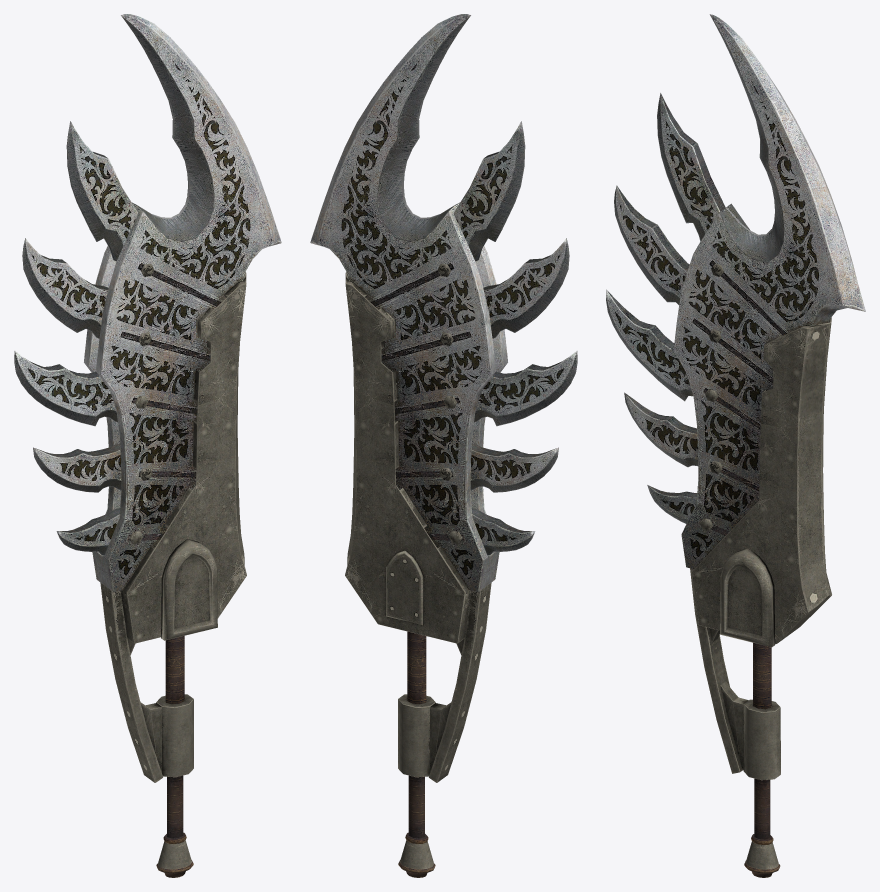
Rendered from bs_two013.obj.
3 renders of one model, left to right at view 1: azimuth 30°, elevation 25°; view 2: azimuth 150°, elevation 25°; view 3: azimuth 330°, elevation 25°, orthographic. The views are drawn at different scales.
Visible parts, largest first — view 1: bs_two013_000_LOD_1, bs_two013_001_LOD_1; view 2: bs_two013_000_LOD_1, bs_two013_001_LOD_1; view 3: bs_two013_000_LOD_1, bs_two013_001_LOD_1.
Boxes of the visible parts, box(x1,y1,x2,y2) form: bs_two013_000_LOD_1: box(14, 14, 281, 591); bs_two013_001_LOD_1: box(100, 272, 246, 877); bs_two013_000_LOD_1: box(310, 14, 577, 591); bs_two013_001_LOD_1: box(345, 272, 491, 877); bs_two013_000_LOD_1: box(606, 14, 865, 569); bs_two013_001_LOD_1: box(690, 317, 831, 877).
Size of the model in its own units: 87.27 by 272 by 18.36.
